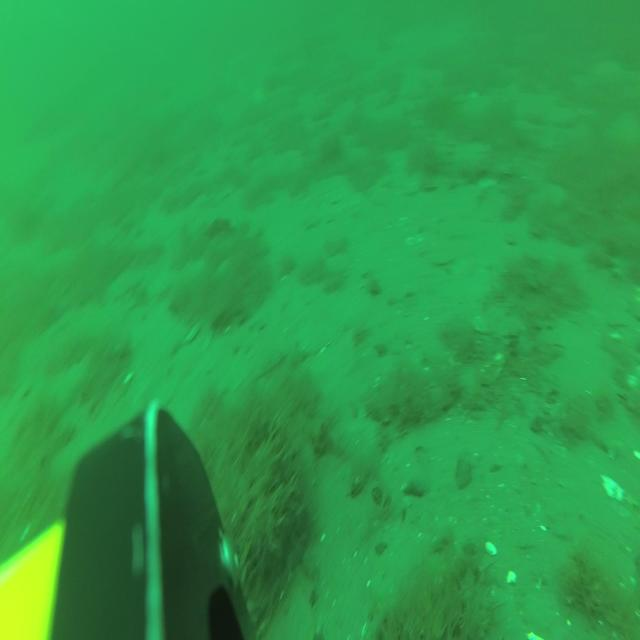scallop: (269, 597, 313, 640), (432, 247, 452, 268)
starfish: (593, 59, 624, 90)
